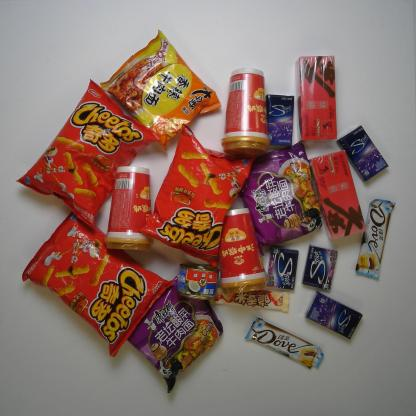Canned Food: (175, 262, 221, 302)
Chocolate: (243, 316, 325, 370), (354, 197, 398, 282), (206, 283, 292, 313)
Gum: (335, 123, 389, 184), (304, 290, 364, 340), (262, 91, 296, 148), (300, 243, 339, 291), (265, 245, 301, 293)
Instant Drink: (307, 148, 369, 242), (102, 162, 163, 254), (218, 65, 271, 159), (219, 205, 270, 292), (294, 54, 342, 144)
Instant Noodles: (95, 28, 224, 154), (124, 271, 224, 395), (236, 140, 325, 257)
Puffed Food: (20, 209, 176, 358), (14, 76, 163, 231), (138, 122, 258, 269)
